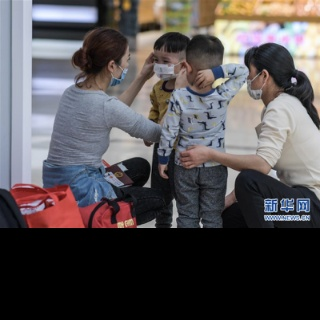with_mask: (152, 53, 180, 80), (113, 52, 131, 88), (246, 65, 263, 101)
